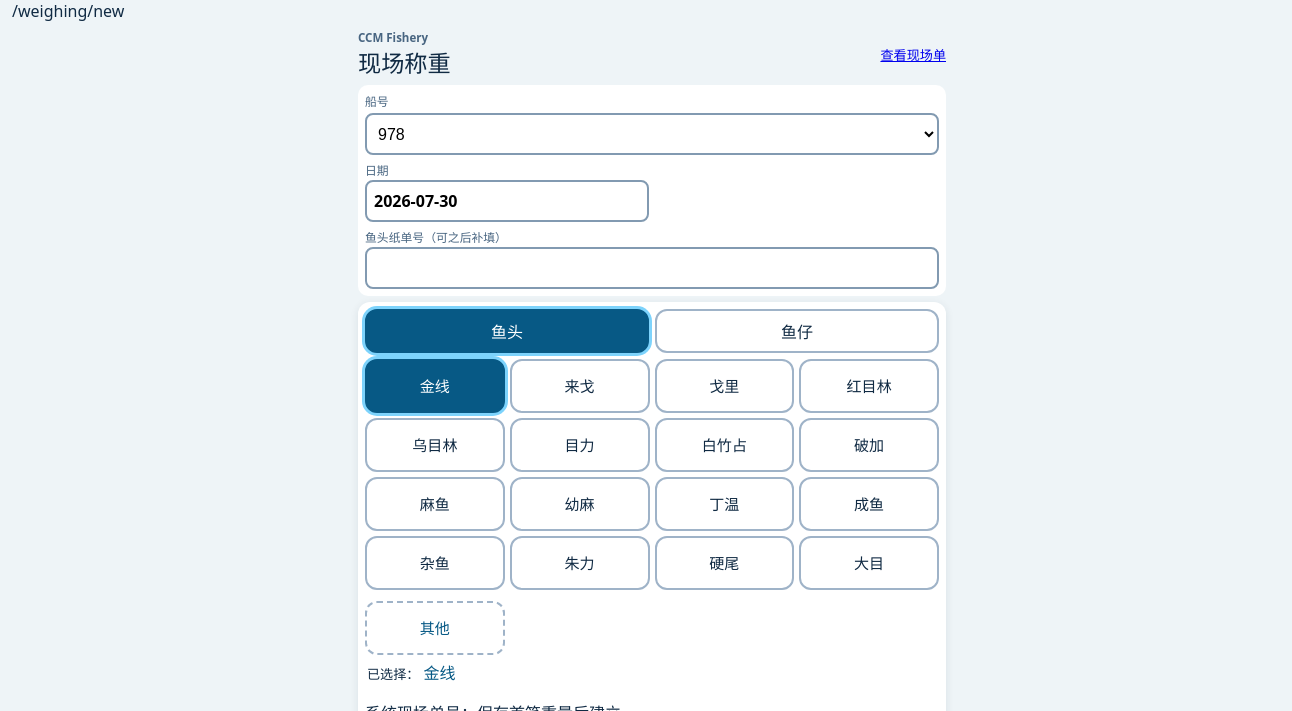
iPhone 现场称重单页 › 切换船号后鱼头纸单号仍可输入，且会在下一篮保存到该草稿单
Select "833" in the dropdown labelled "船号" at {"x": 652, "y": 134}, box [365,113,939,155]
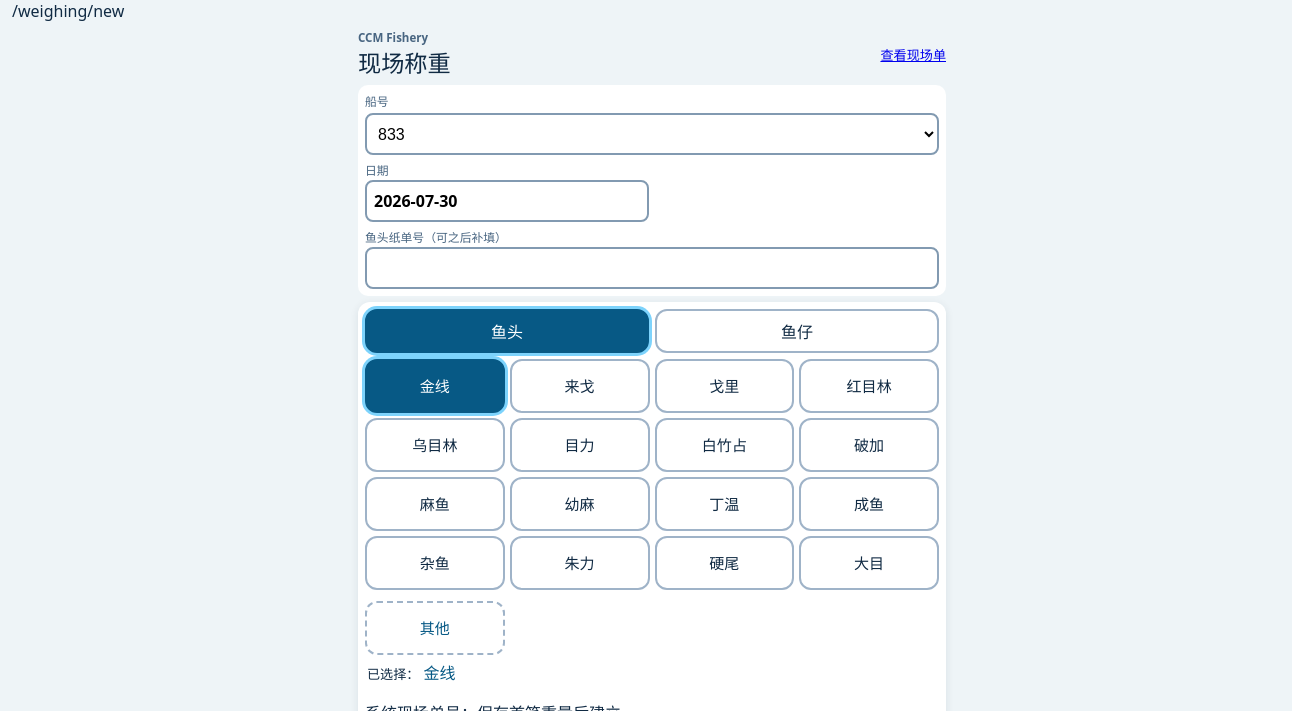
Type "FH-833-A" into the field labelled "鱼头纸单号" at {"x": 652, "y": 268}, box [365,247,939,289]
(page scrolled)
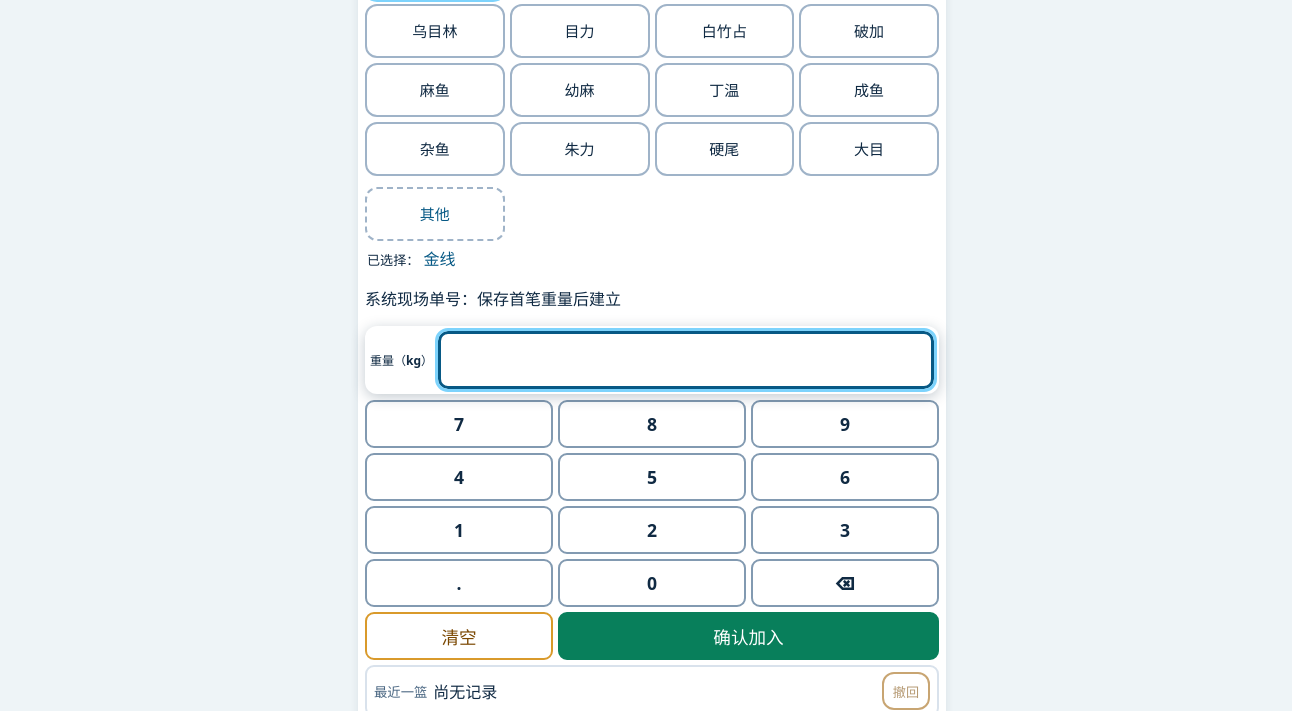
Type "60" into the field labelled "重量（kg）" at {"x": 686, "y": 360}, box [438,331,934,389]
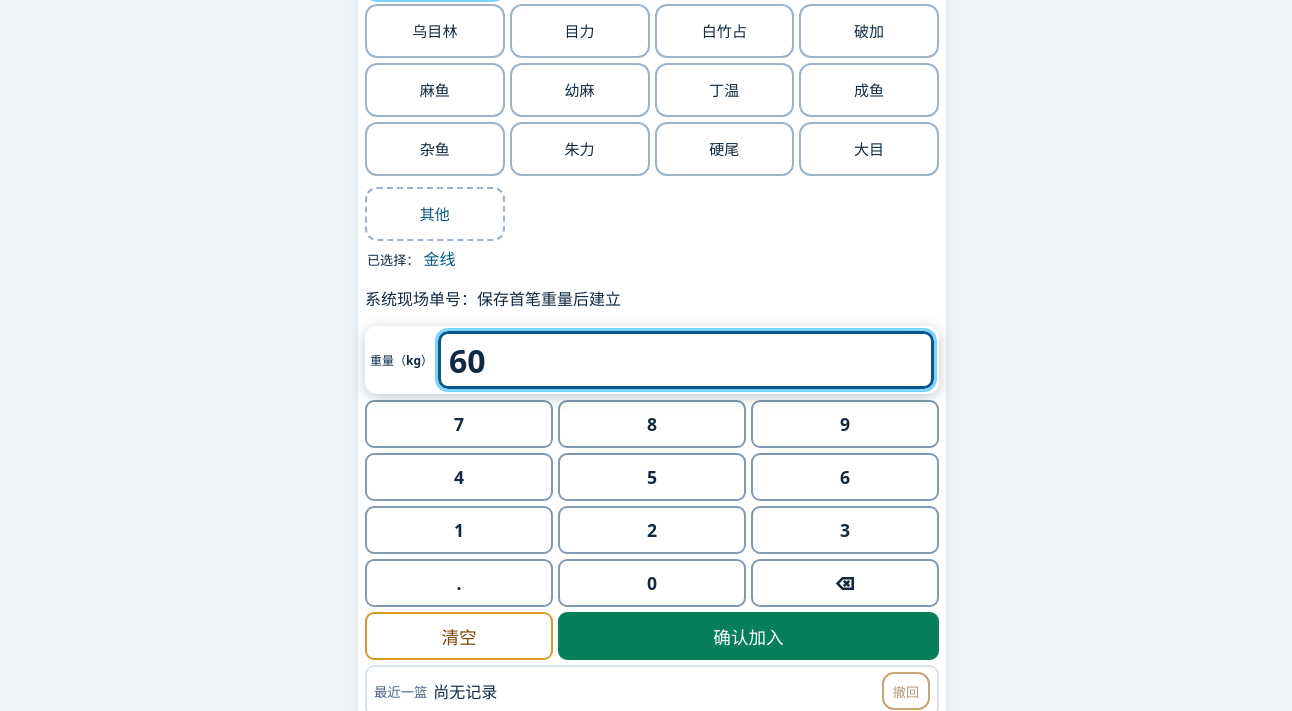
Expected: the button "确认加入" is enabled
Click the button "确认加入" at {"x": 748, "y": 636}, box [558,612,939,660]
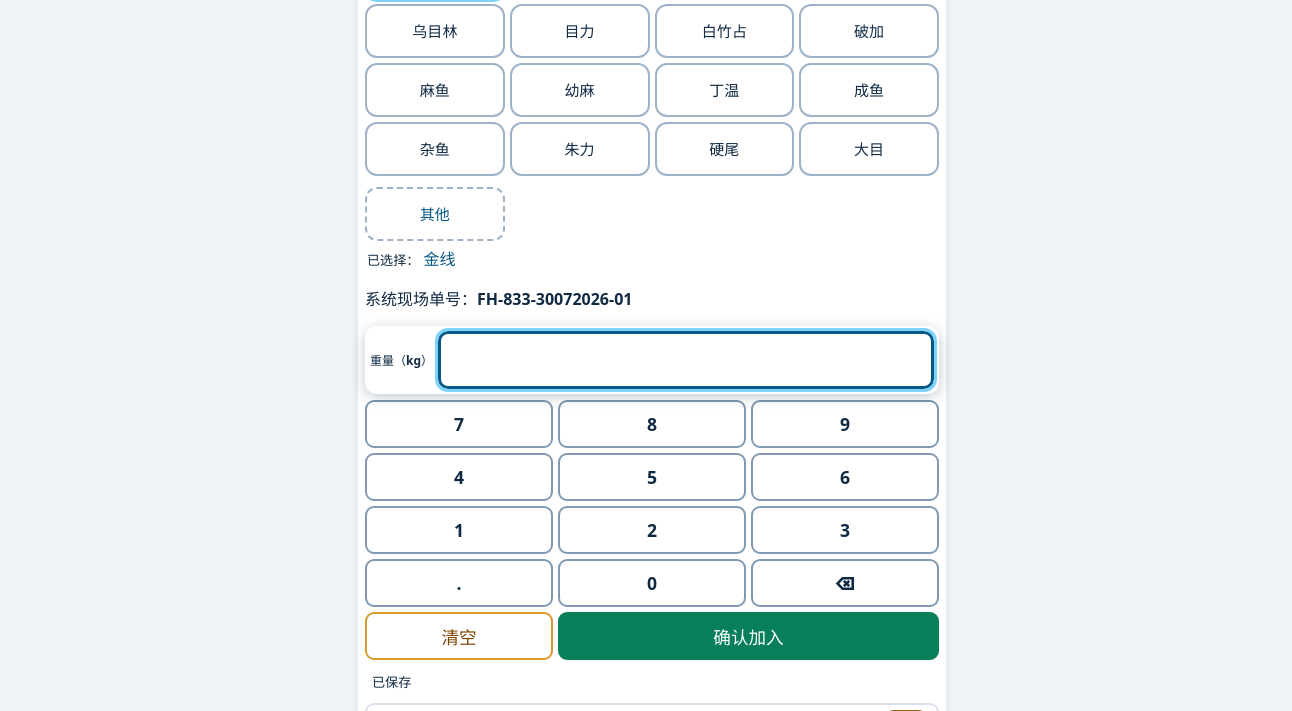
Expected: the text "已保存" is shown, [372,673,411,691]
